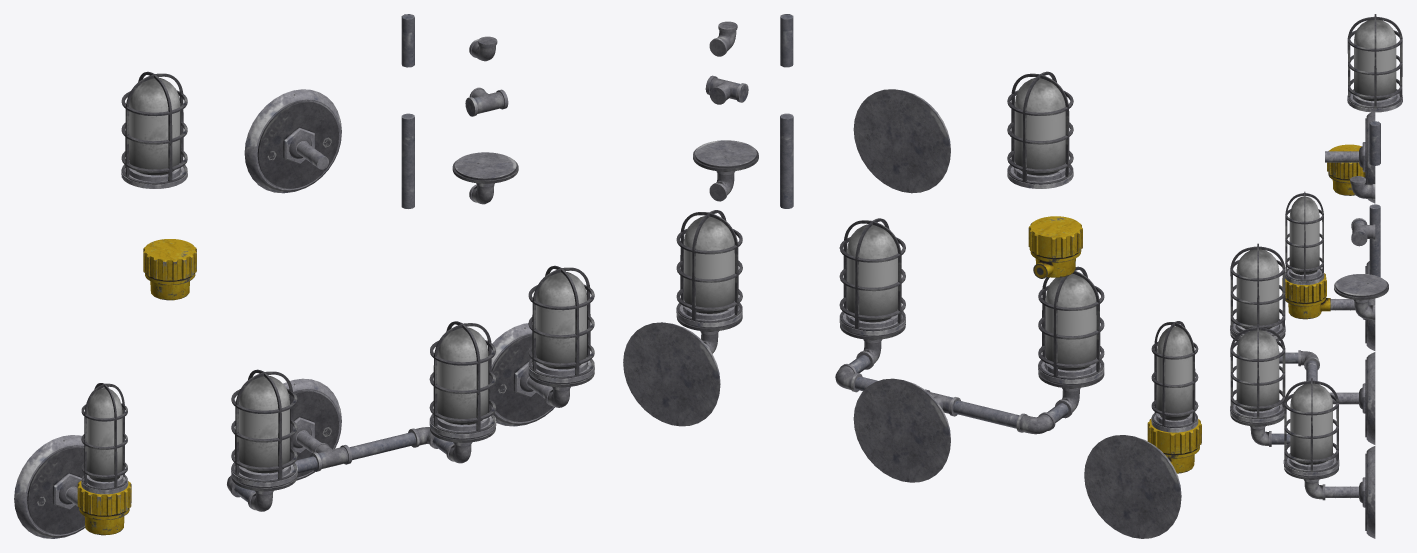
The picture shows the model from 3 angles, left to right: view 1: azimuth 30°, elevation 25°; view 2: azimuth 150°, elevation 25°; view 3: azimuth 270°, elevation 25°; orthographic projection. The views are drawn at different scales.
Visible parts, largest first — view 1: industrial_caged_sconce_c, industrial_caged_sconce_b, industrial_caged_sconce_a, industrial_caged_sconce_mount, industrial_caged_sconce_light, industrial_caged_sconce_base_a, industrial_caged_sconce_base_b, industrial_caged_sconce_pipe_long, industrial_caged_sconce_pipe_t, industrial_caged_sconce_pipe_short; view 2: industrial_caged_sconce_c, industrial_caged_sconce_a, industrial_caged_sconce_b, industrial_caged_sconce_mount, industrial_caged_sconce_light, industrial_caged_sconce_base_a, industrial_caged_sconce_base_b, industrial_caged_sconce_pipe_long, industrial_caged_sconce_pipe_t, industrial_caged_sconce_pipe_short; view 3: industrial_caged_sconce_c, industrial_caged_sconce_a, industrial_caged_sconce_b, industrial_caged_sconce_light, industrial_caged_sconce_base_b, industrial_caged_sconce_mount, industrial_caged_sconce_base_a, industrial_caged_sconce_pipe_long, industrial_caged_sconce_pipe_t, industrial_caged_sconce_pipe_short, industrial_caged_sconce_elbow.
Part boxes in pixels (box(x1,y1,x2,y2)): industrial_caged_sconce_c: box(227, 321, 496, 511); industrial_caged_sconce_b: box(14, 383, 131, 538); industrial_caged_sconce_a: box(491, 265, 594, 426); industrial_caged_sconce_mount: box(244, 89, 341, 193); industrial_caged_sconce_light: box(121, 71, 187, 188); industrial_caged_sconce_base_a: box(143, 239, 196, 300); industrial_caged_sconce_base_b: box(452, 152, 518, 204); industrial_caged_sconce_pipe_long: box(401, 113, 414, 208); industrial_caged_sconce_pipe_t: box(465, 87, 508, 116); industrial_caged_sconce_pipe_short: box(401, 14, 414, 67); industrial_caged_sconce_c: box(835, 218, 1104, 482); industrial_caged_sconce_a: box(623, 210, 742, 426); industrial_caged_sconce_b: box(1084, 321, 1201, 538); industrial_caged_sconce_mount: box(853, 89, 950, 193); industrial_caged_sconce_light: box(1007, 71, 1073, 188); industrial_caged_sconce_base_a: box(1028, 216, 1082, 278); industrial_caged_sconce_base_b: box(693, 140, 758, 201); industrial_caged_sconce_pipe_long: box(780, 113, 793, 208); industrial_caged_sconce_pipe_t: box(705, 75, 748, 104); industrial_caged_sconce_pipe_short: box(780, 14, 793, 67); industrial_caged_sconce_c: box(1230, 243, 1375, 446); industrial_caged_sconce_a: box(1283, 378, 1375, 538); industrial_caged_sconce_b: box(1282, 191, 1375, 350); industrial_caged_sconce_light: box(1347, 14, 1402, 112); industrial_caged_sconce_base_b: box(1334, 274, 1388, 320); industrial_caged_sconce_mount: box(1325, 110, 1375, 203); industrial_caged_sconce_base_a: box(1327, 144, 1365, 195); industrial_caged_sconce_pipe_long: box(1369, 204, 1380, 277); industrial_caged_sconce_pipe_t: box(1351, 218, 1375, 246); industrial_caged_sconce_pipe_short: box(1369, 121, 1380, 165); industrial_caged_sconce_elbow: box(1350, 176, 1375, 199).
Size of the model in its own units: 1.21 by 0.9128 by 0.3894.
Materials: 1 (1 with a texture image).
